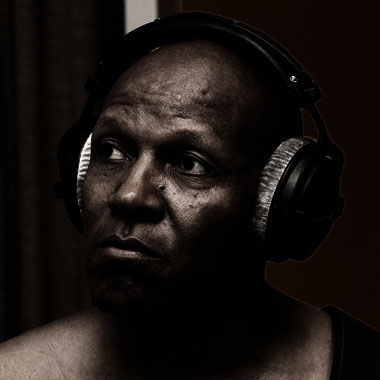person: (1, 40, 380, 380)
